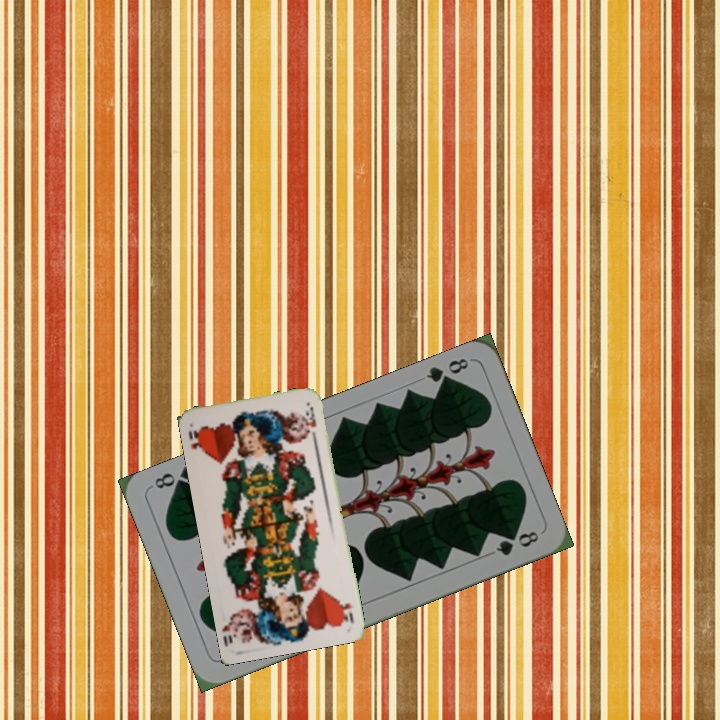G8: (422, 354, 471, 390)
HO: (184, 422, 207, 458), (337, 599, 356, 626)
